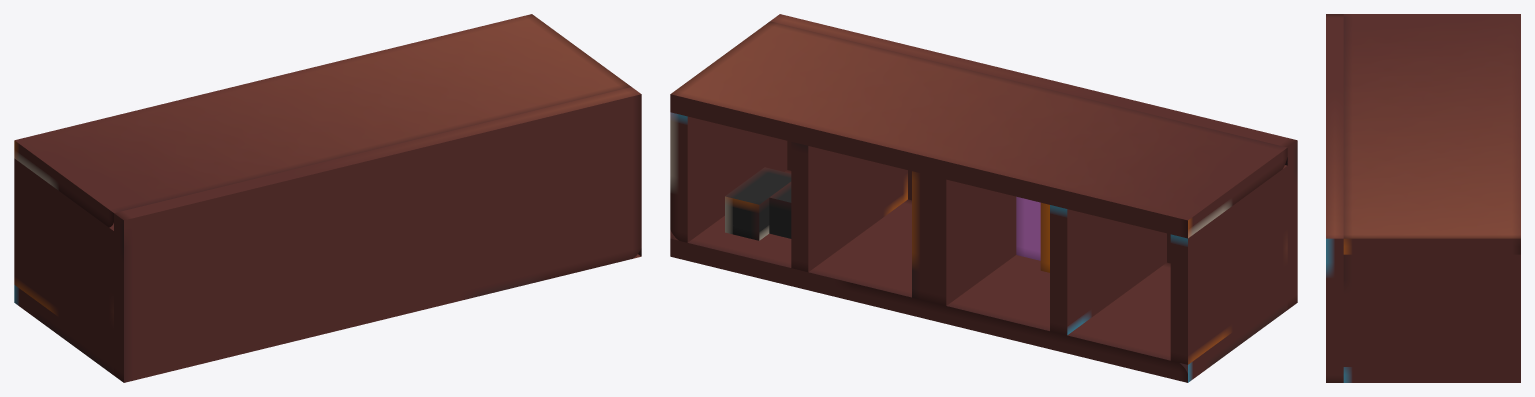
Rendered from LowShelf.fbx.
3 views of the same model, side by side, from view 1: azimuth 30°, elevation 25°; view 2: azimuth 150°, elevation 25°; view 3: azimuth 270°, elevation 25° (orthographic). The views are drawn at different scales.
Visible parts, largest first — view 1: cube_6, cube_7, cube_3, cube; view 2: cube_7, cube, cube_3, cube_2, cube_5, cube_4, cube_1, cube_6, cube_8, cube_10, cube_9, cube_11; view 3: cube_7, cube_1, cube_6, cube.
Part boxes in pixels (x1,y1,x2,y2): cube_6: [114, 87, 641, 382]; cube_7: [14, 14, 631, 230]; cube_3: [14, 158, 113, 357]; cube: [14, 285, 113, 375]; cube_7: [670, 21, 1287, 238]; cube: [670, 170, 1287, 382]; cube_3: [1170, 165, 1287, 364]; cube_2: [912, 171, 1016, 305]; cube_5: [791, 142, 907, 272]; cube_4: [1050, 205, 1166, 335]; cube_1: [670, 112, 787, 242]; cube_6: [770, 14, 1297, 309]; cube_8: [725, 167, 791, 240]; cube_10: [1016, 196, 1040, 260]; cube_9: [769, 182, 791, 238]; cube_11: [1040, 202, 1049, 272]; cube_7: [1343, 14, 1520, 254]; cube_1: [1343, 254, 1520, 366]; cube_6: [1326, 14, 1343, 382]; cube: [1343, 367, 1520, 382].
Size of the model in its own units: 188 by 56.25 by 68.75.
1 material, 1 textured.
